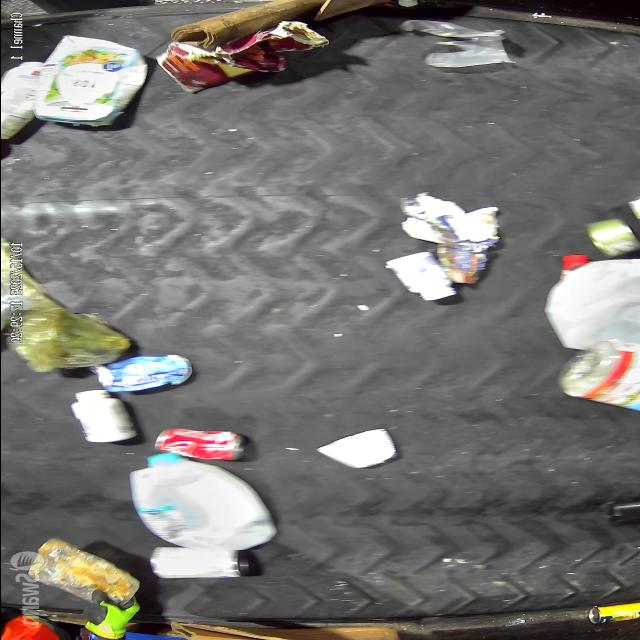can: (150, 422, 262, 463), (94, 349, 194, 391), (136, 545, 256, 577)
milk_jug: (128, 452, 284, 552), (544, 252, 640, 355)
